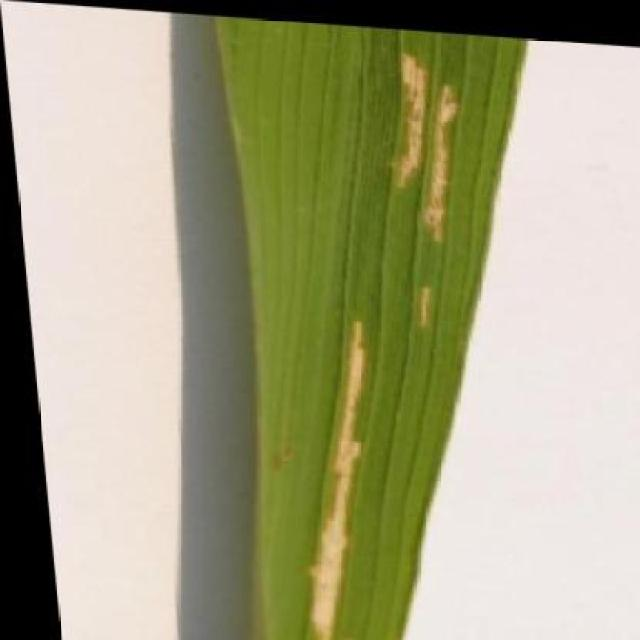Brown_Spot: (184, 11, 578, 640)
